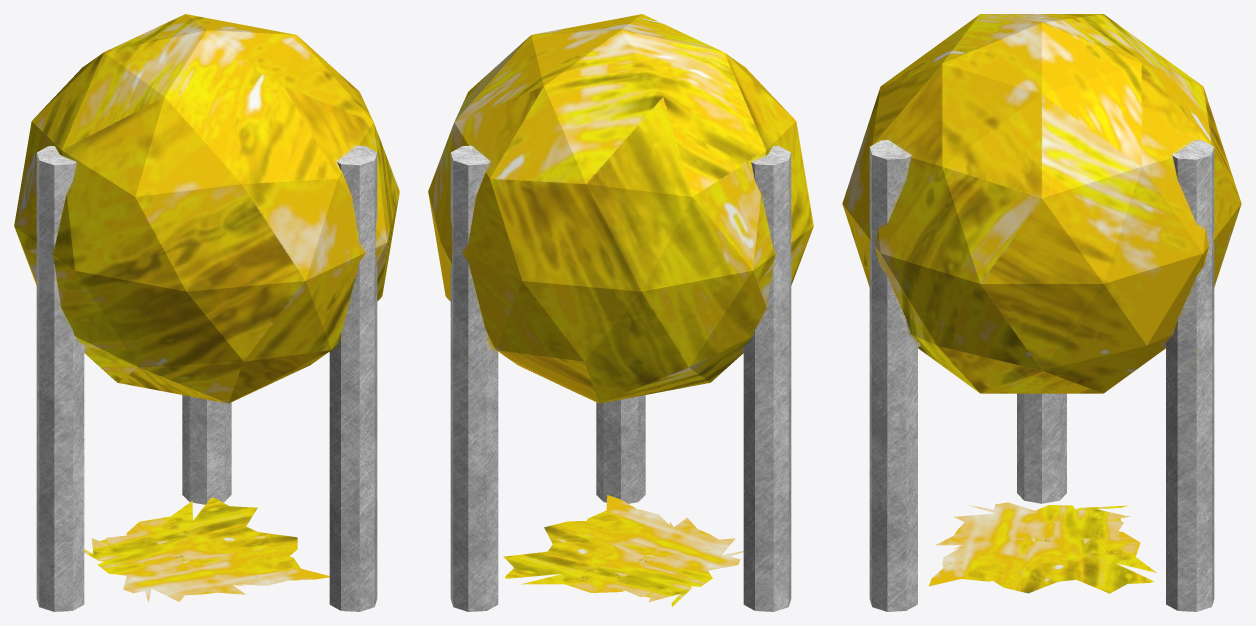
The model's file is gammaSource1.fbx.
3 renders of one model, left to right at view 1: azimuth 30°, elevation 25°; view 2: azimuth 150°, elevation 25°; view 3: azimuth 270°, elevation 25°, orthographic.
Parts seen in each view (by area): view 1: GammaSource1; view 2: GammaSource1; view 3: GammaSource1.
Boxes of the visible parts, box(x1,y1,x2,y2) form: GammaSource1: box(14, 14, 399, 611); GammaSource1: box(428, 14, 813, 611); GammaSource1: box(842, 14, 1241, 611).
Bounding box in the file's own units: 77.34 × 120 × 80.
Materials: 1 (1 with a texture image).
